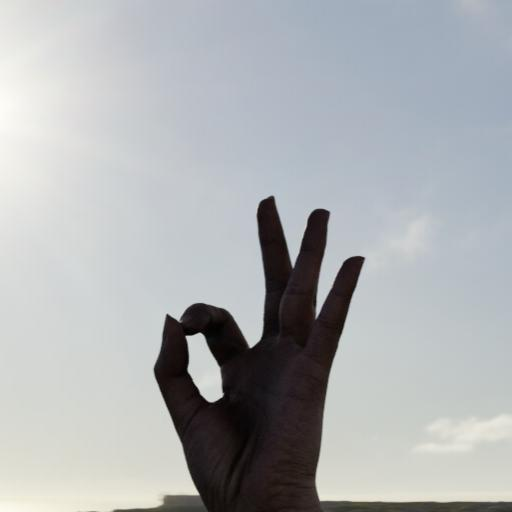F: (152, 192, 369, 504)
